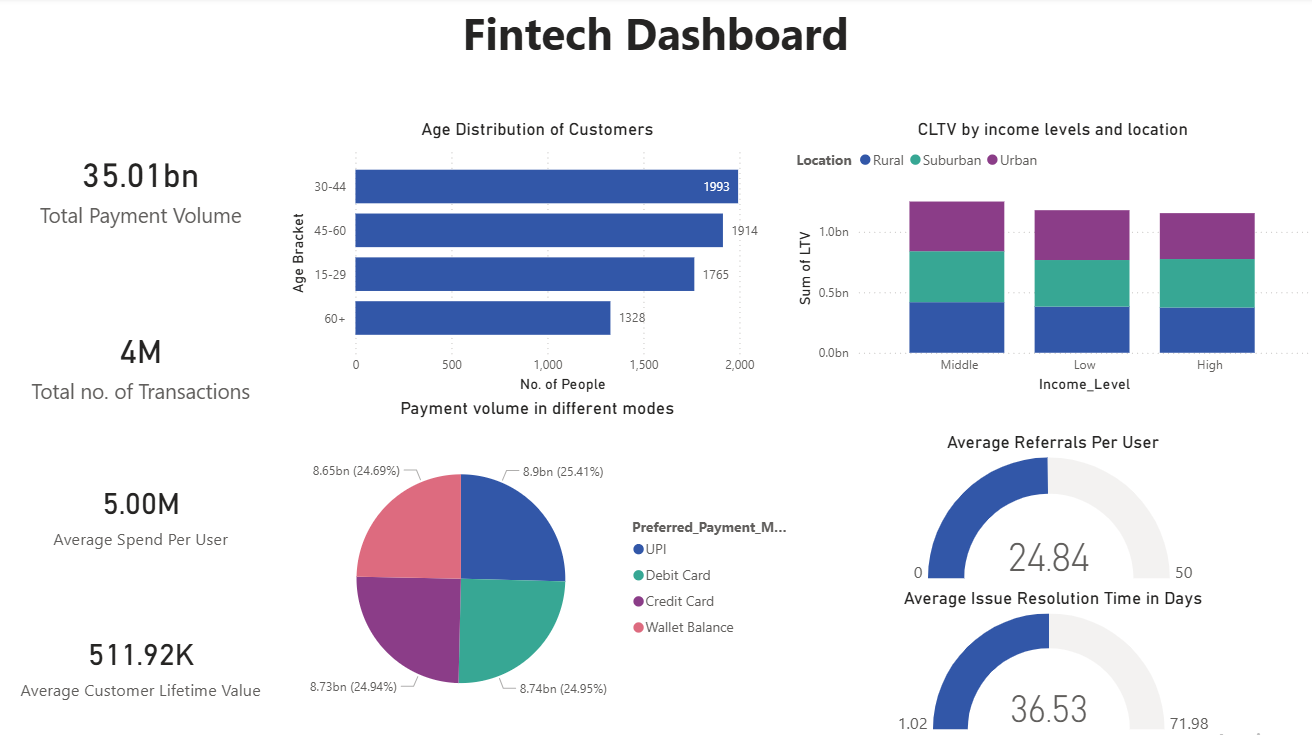

Layout of this report page (visuals, bound fields, positions):
{"tool":"powerbi","page":{"name":"Page 1","canvas":[1280,720],"ordinal":0},"visuals":[{"type":"card","fields":{"Values":["Sum(fintech data.Total_Spent)"]},"box":[0,118.3,280,131.7],"z":0},{"type":"card","fields":{"Values":["Sum(fintech data.Total_Transactions)"]},"box":[0,288.3,280,133.3],"z":1000},{"type":"barChart","title":"Age Distribution of Customers","fields":{"Category":["fintech data.Age Bracket"],"Y":["CountNonNull(fintech data.Age Bracket)"]},"box":[280,118.3,491.7,270],"z":2000},{"type":"card","fields":{"Values":["fintech data.Average Spend Per User"]},"box":[0,428.3,280,145],"z":3000},{"type":"card","fields":{"Values":["Avg(fintech data.LTV)"]},"box":[0,573.3,280,146.7],"z":4000},{"type":"pieChart","title":"Payment volume in different modes","fields":{"Category":["fintech data.Preferred_Payment_Method"],"Y":["Sum(fintech data.Total_Spent)"]},"box":[280,388.3,491.7,331.7],"z":5000},{"type":"columnChart","title":"CLTV by income levels and location","fields":{"Y":["Sum(fintech data.LTV)"],"Category":["fintech data.Income_Level"],"Series":["fintech data.Location"]},"box":[771.7,118.3,508.3,270],"z":6000},{"type":"gauge","title":"Average Referrals Per User","fields":{"Y":["Avg(fintech data.Referral_Count)"],"MinValue":["Min(fintech data.Referral_Count)"],"MaxValue":["Max(fintech data.Referral_Count)1"]},"box":[771.7,421.7,508.3,151.7],"z":7000},{"type":"gauge","title":"Average Issue Resolution Time in Days","fields":{"Y":["Avg(fintech data.Issue_Resolution_Time)"],"MinValue":["Min(fintech data.Issue_Resolution_Time)"],"MaxValue":["Max(fintech data.Issue_Resolution_Time)1"]},"box":[771.7,573.3,508.3,146.7],"z":8000},{"type":"textbox","box":[0,0,1280,68.3],"z":9000}]}

Visuals, with their boxes in screenshot pixels (x1, y1, x2, y2), scaled from the page's 1280x720 canvas onto the 1312x735 screenshot:
card - Sum(fintech data.Total_Spent): locate(0, 121, 287, 255)
card - Sum(fintech data.Total_Transactions): locate(0, 294, 287, 430)
"Age Distribution of Customers" barChart: locate(287, 121, 791, 396)
card - fintech data.Average Spend Per User: locate(0, 437, 287, 585)
card - Avg(fintech data.LTV): locate(0, 585, 287, 734)
"Payment volume in different modes" pieChart: locate(287, 396, 791, 734)
"CLTV by income levels and location" columnChart: locate(791, 121, 1311, 396)
"Average Referrals Per User" gauge: locate(791, 430, 1311, 585)
"Average Issue Resolution Time in Days" gauge: locate(791, 585, 1311, 734)
textbox: locate(0, 0, 1311, 70)
